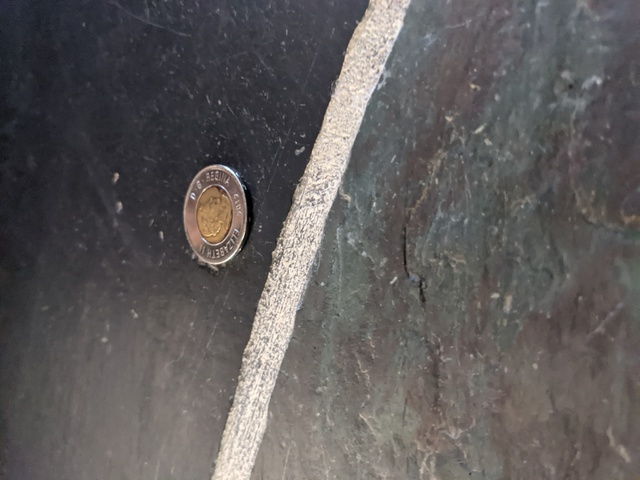twonie: (164, 163, 258, 275)
